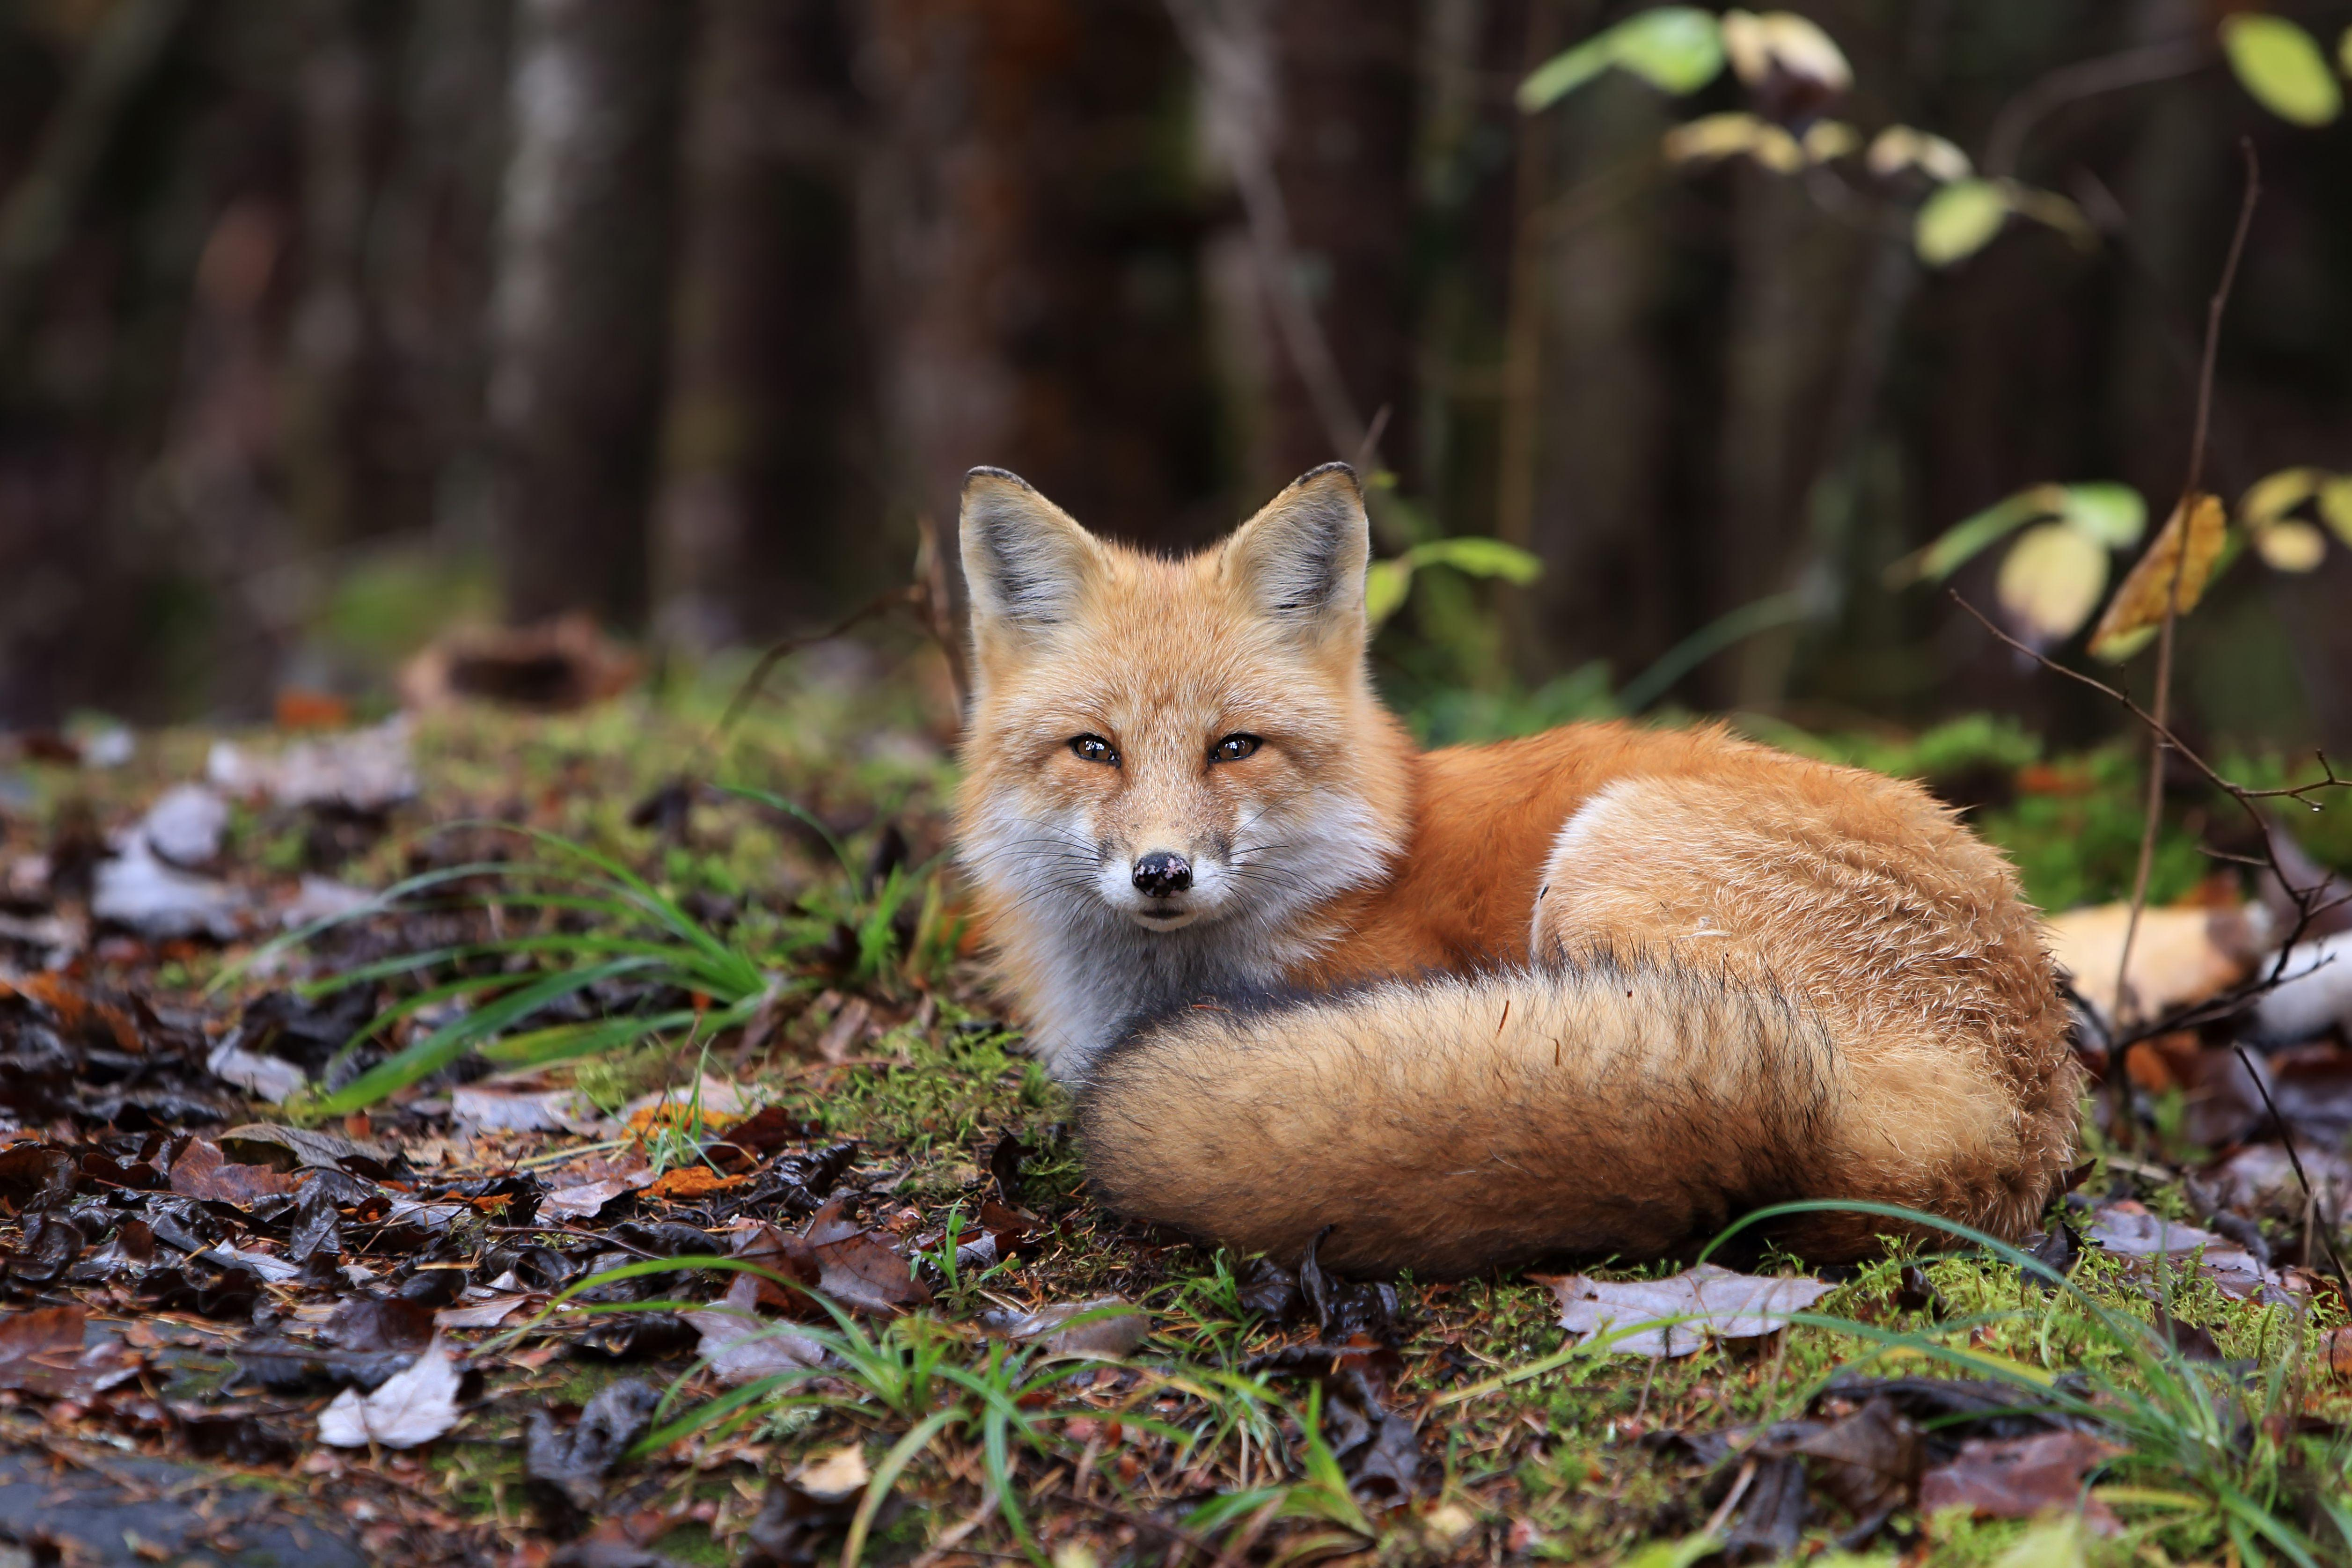fox: (936, 461, 2079, 1360)
